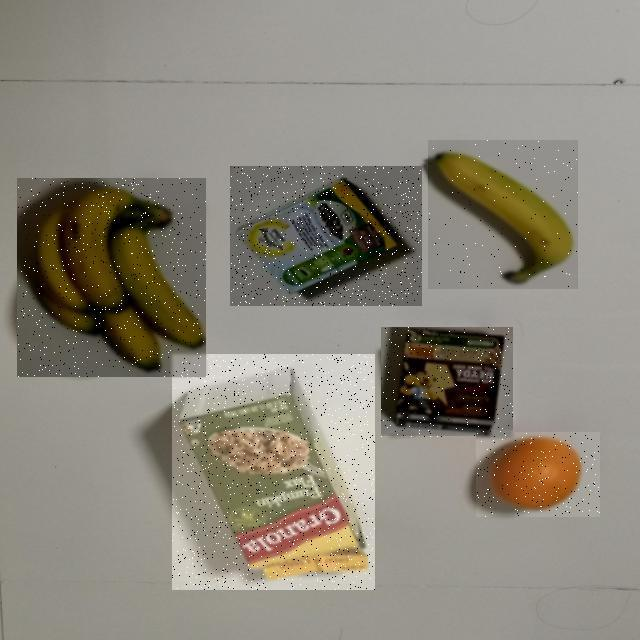Banana: (17, 178, 206, 377), (429, 140, 579, 289)
Cereal: (172, 354, 375, 590), (230, 166, 422, 306), (381, 328, 513, 438)
Orange: (477, 432, 601, 517)
